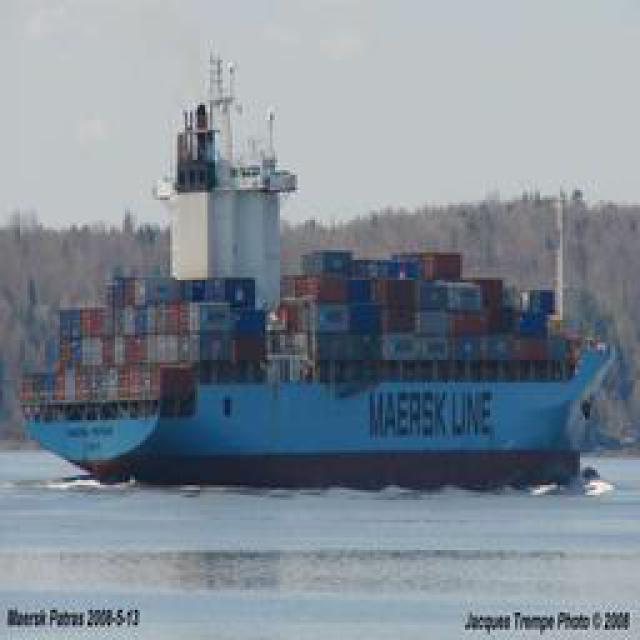Ship: (20, 113, 625, 488)
